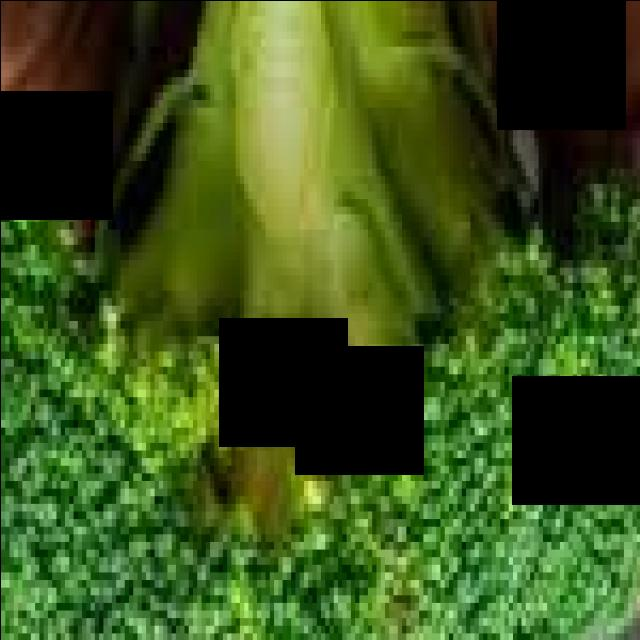broccoli: (0, 0, 640, 640)
